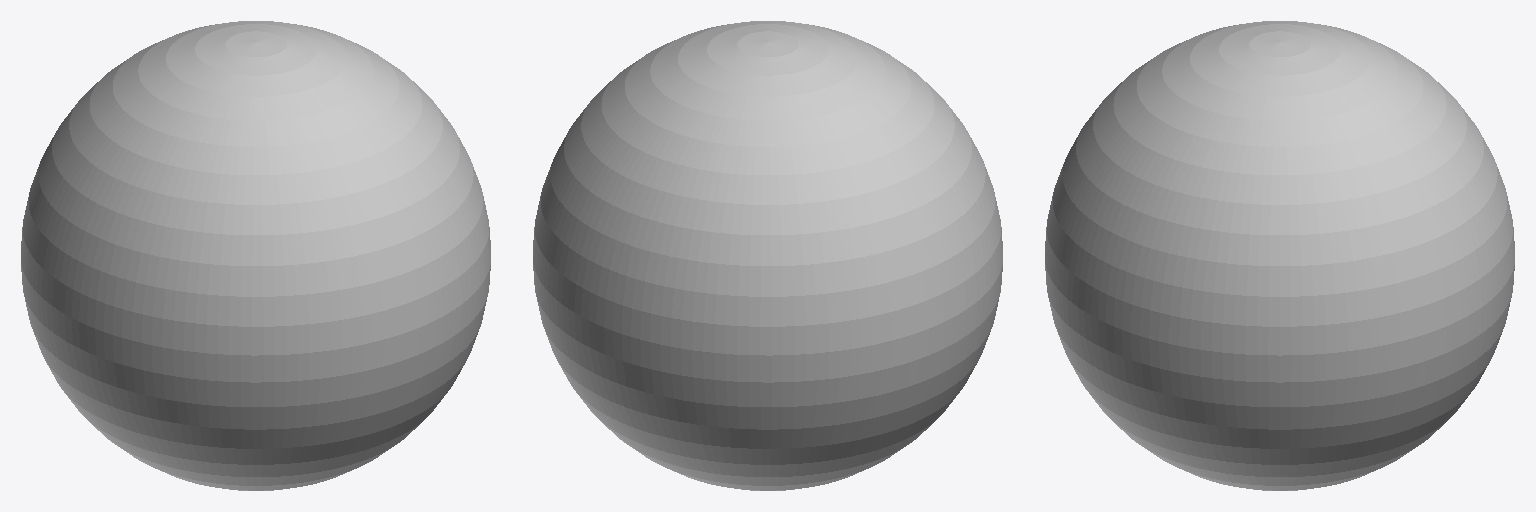
File: earth.obj
The picture shows the model from 3 angles: view 1: azimuth 30°, elevation 25°; view 2: azimuth 150°, elevation 25°; view 3: azimuth 270°, elevation 25°; orthographic projection.
Visible parts, largest first — view 1: Sphere; view 2: Sphere; view 3: Sphere.
Part boxes in pixels (bbox=[...]): Sphere: bbox=[21, 21, 490, 490]; Sphere: bbox=[533, 21, 1002, 490]; Sphere: bbox=[1045, 21, 1514, 490].
Size of the model in its own units: 2 by 2 by 2.